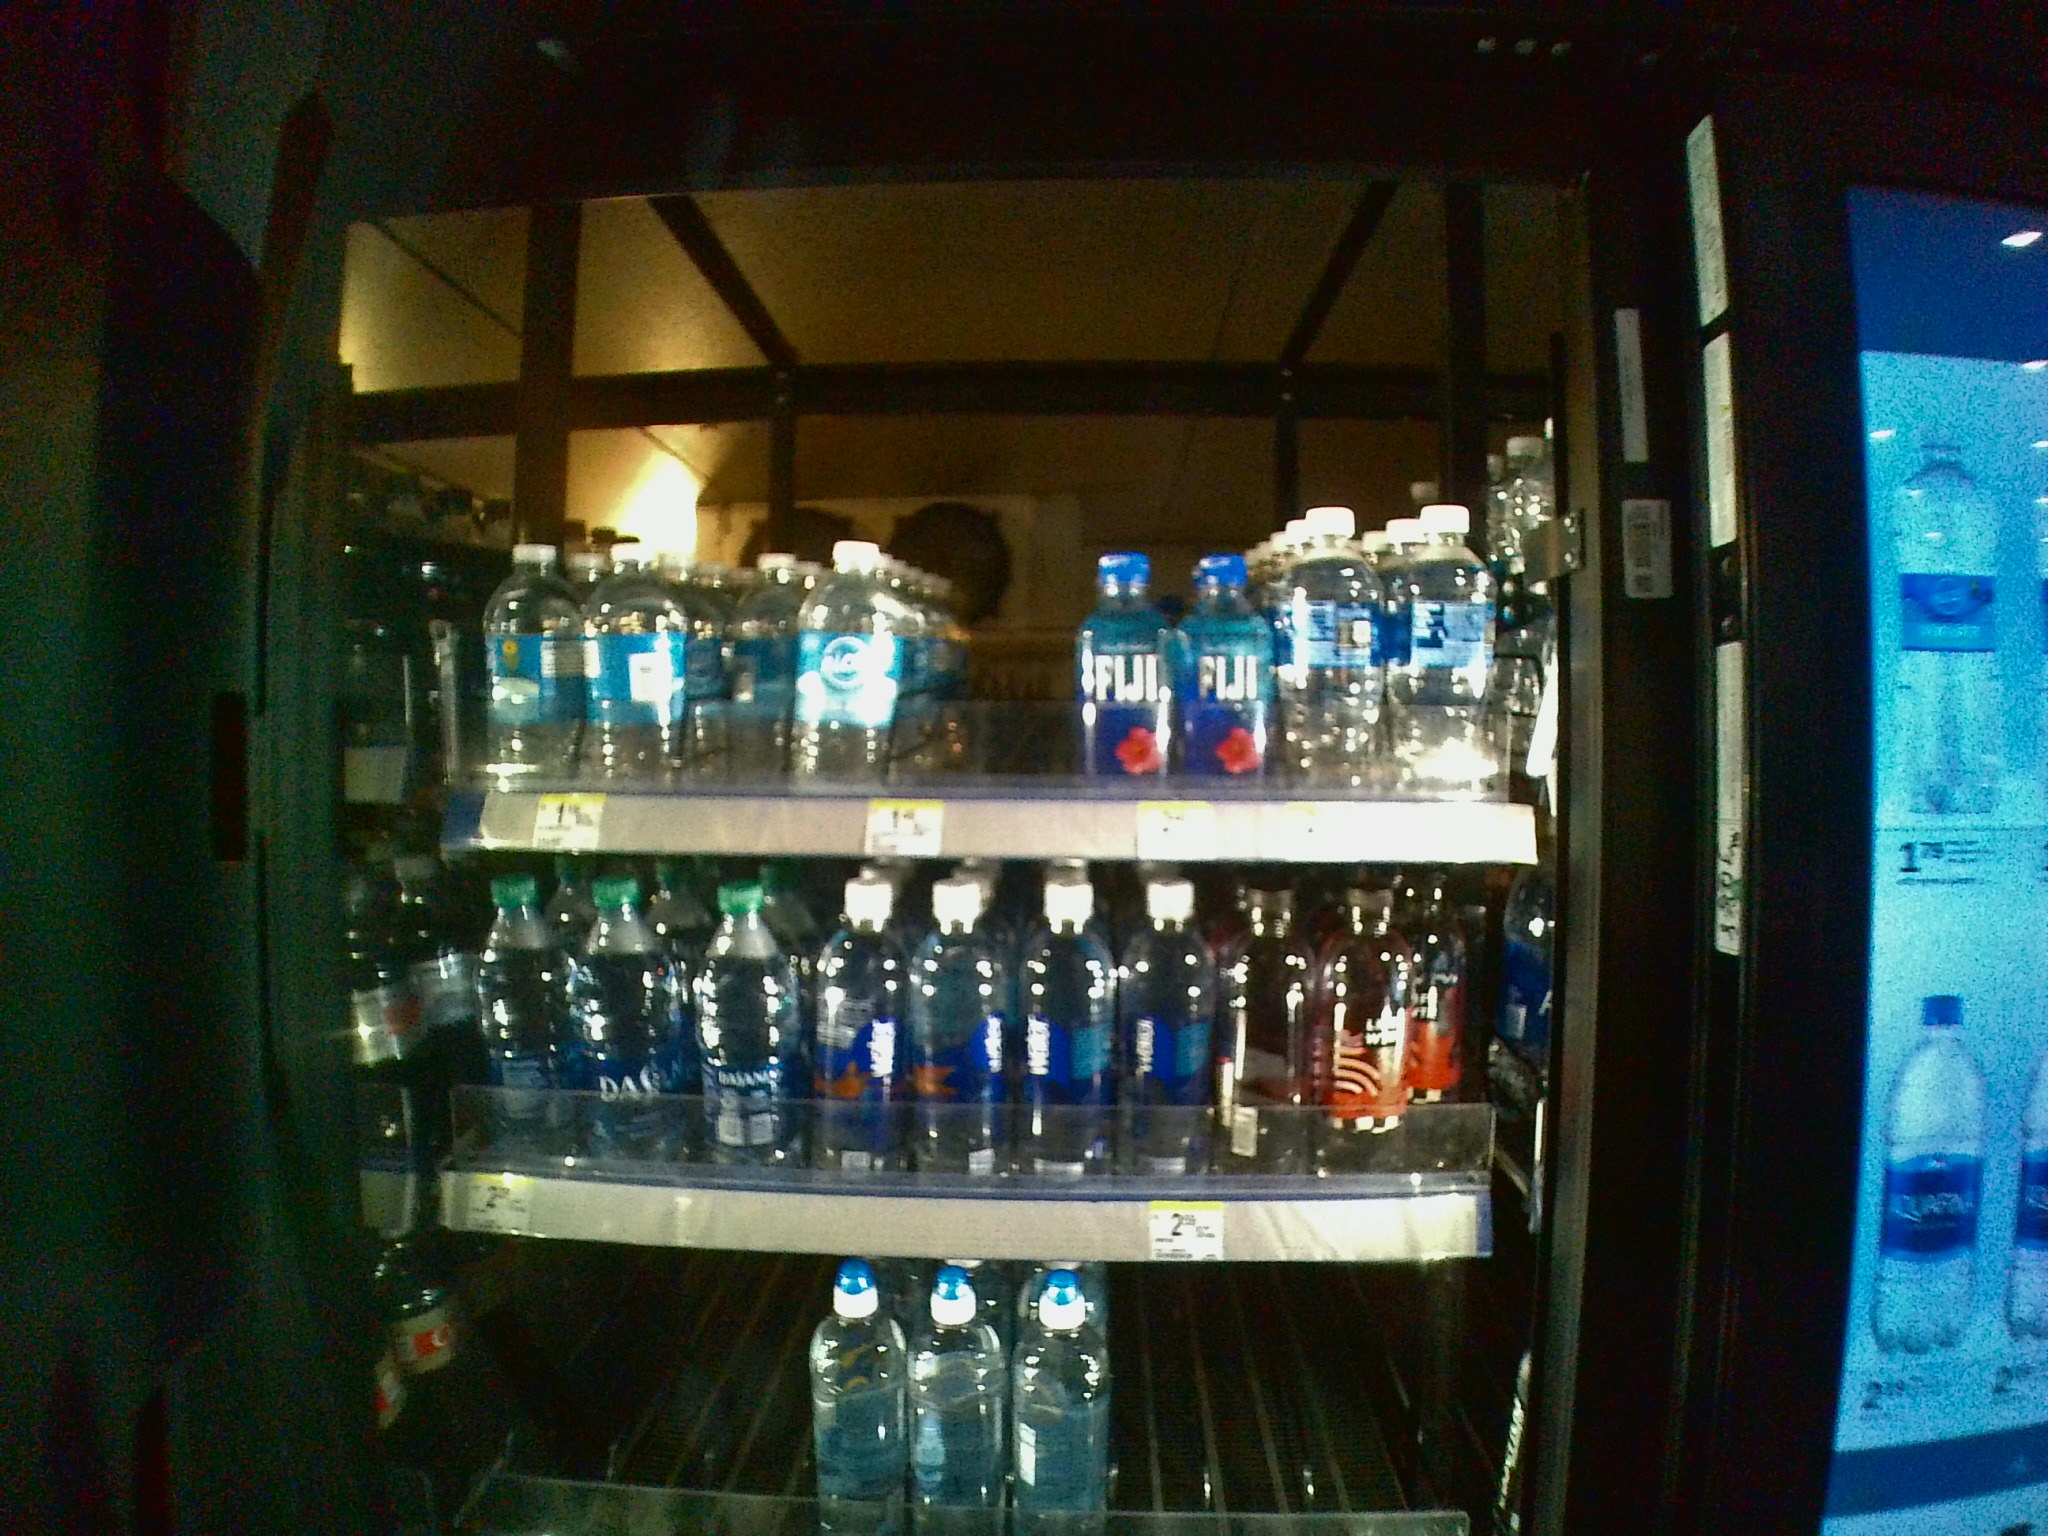shelf: (334, 221, 1563, 870), (332, 868, 1563, 1263)
